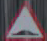Speed Breaker ahead: (1, 1, 46, 37)
